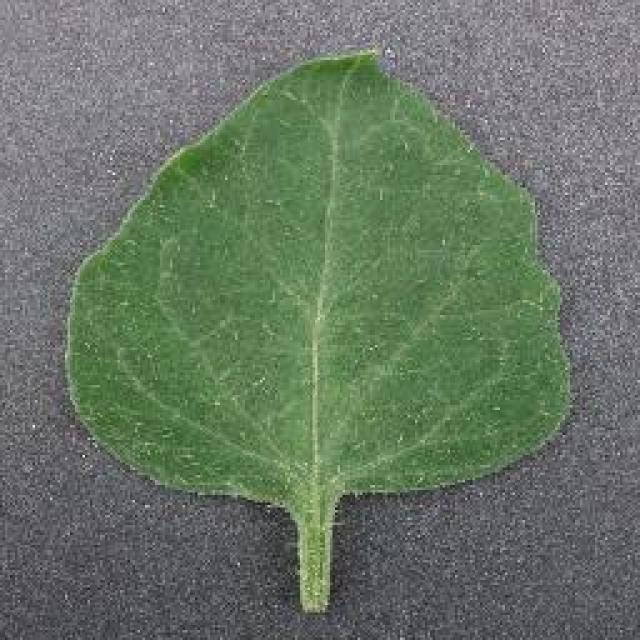healthy: (65, 48, 568, 602)
